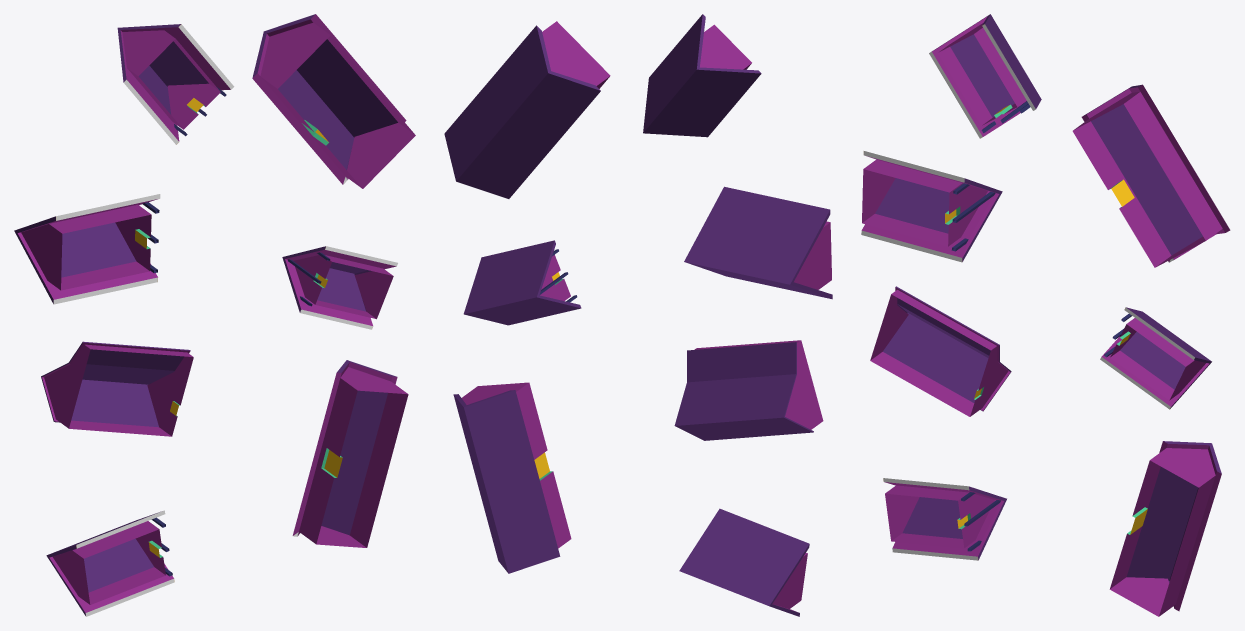
Rendered from Piotrówka Tier 1.fbx.
The picture shows the model from 3 angles, left to right: view 1: azimuth 30°, elevation 25°; view 2: azimuth 150°, elevation 25°; view 3: azimuth 330°, elevation 25°; orthographic projection. The views are drawn at different scales.
Visible parts, largest first — view 1: Piotrowka; view 2: Piotrowka; view 3: Piotrowka.
Part boxes in pixels (left/top/right/bottom): Piotrowka: left=14, top=14, right=415, bottom=616; Piotrowka: left=444, top=14, right=832, bottom=616; Piotrowka: left=861, top=14, right=1230, bottom=616.
Size of the model in its own units: 3.42 by 5.1 by 0.7122.
